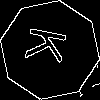K: (25, 25, 77, 67)
